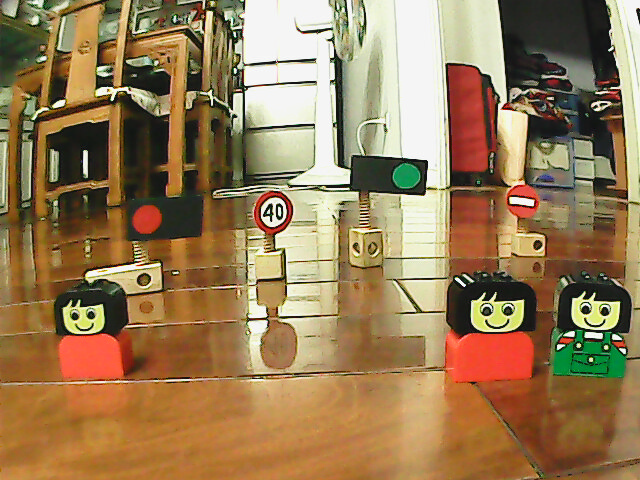Green Traffic Light: (387, 158, 424, 193)
Person: (440, 266, 538, 385), (547, 268, 634, 382), (50, 276, 136, 383)
Red Traffic Light: (126, 201, 167, 239)
Speed Limit 40: (252, 188, 295, 235)
Stop Sign: (503, 183, 542, 220)
